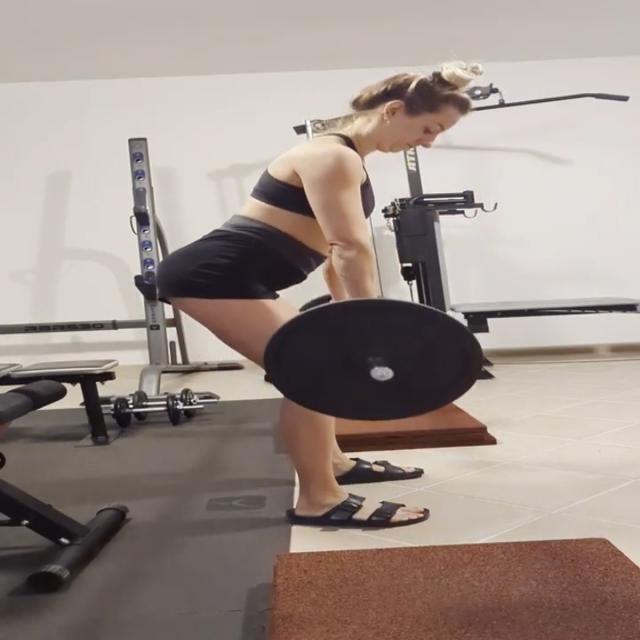barbell: (259, 295, 486, 424)
